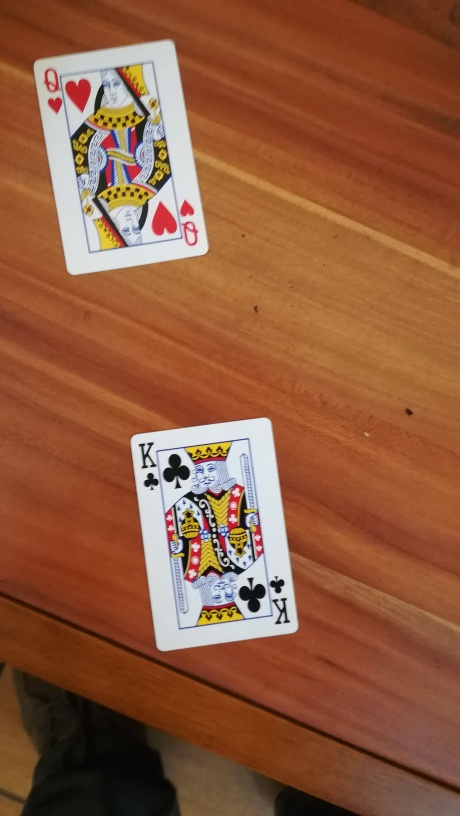hx q: (25, 36, 216, 277)
mh k: (113, 416, 325, 663)
